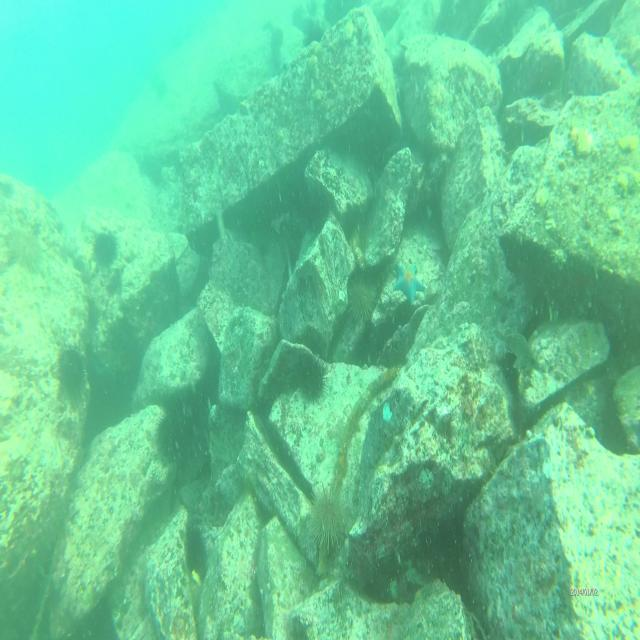echinus: (307, 480, 342, 549), (6, 210, 42, 273), (300, 355, 326, 400), (156, 412, 186, 451), (56, 347, 84, 388), (90, 226, 117, 264), (183, 528, 204, 571)
starfish: (395, 253, 426, 299)
